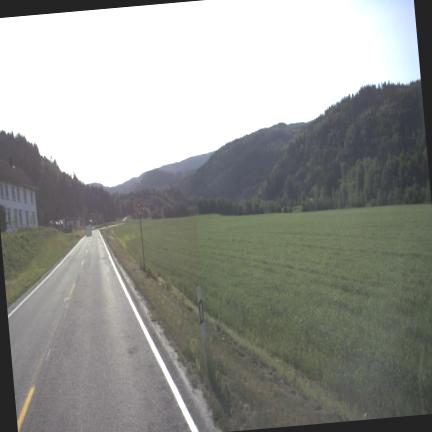Road: (7, 231, 208, 431)
